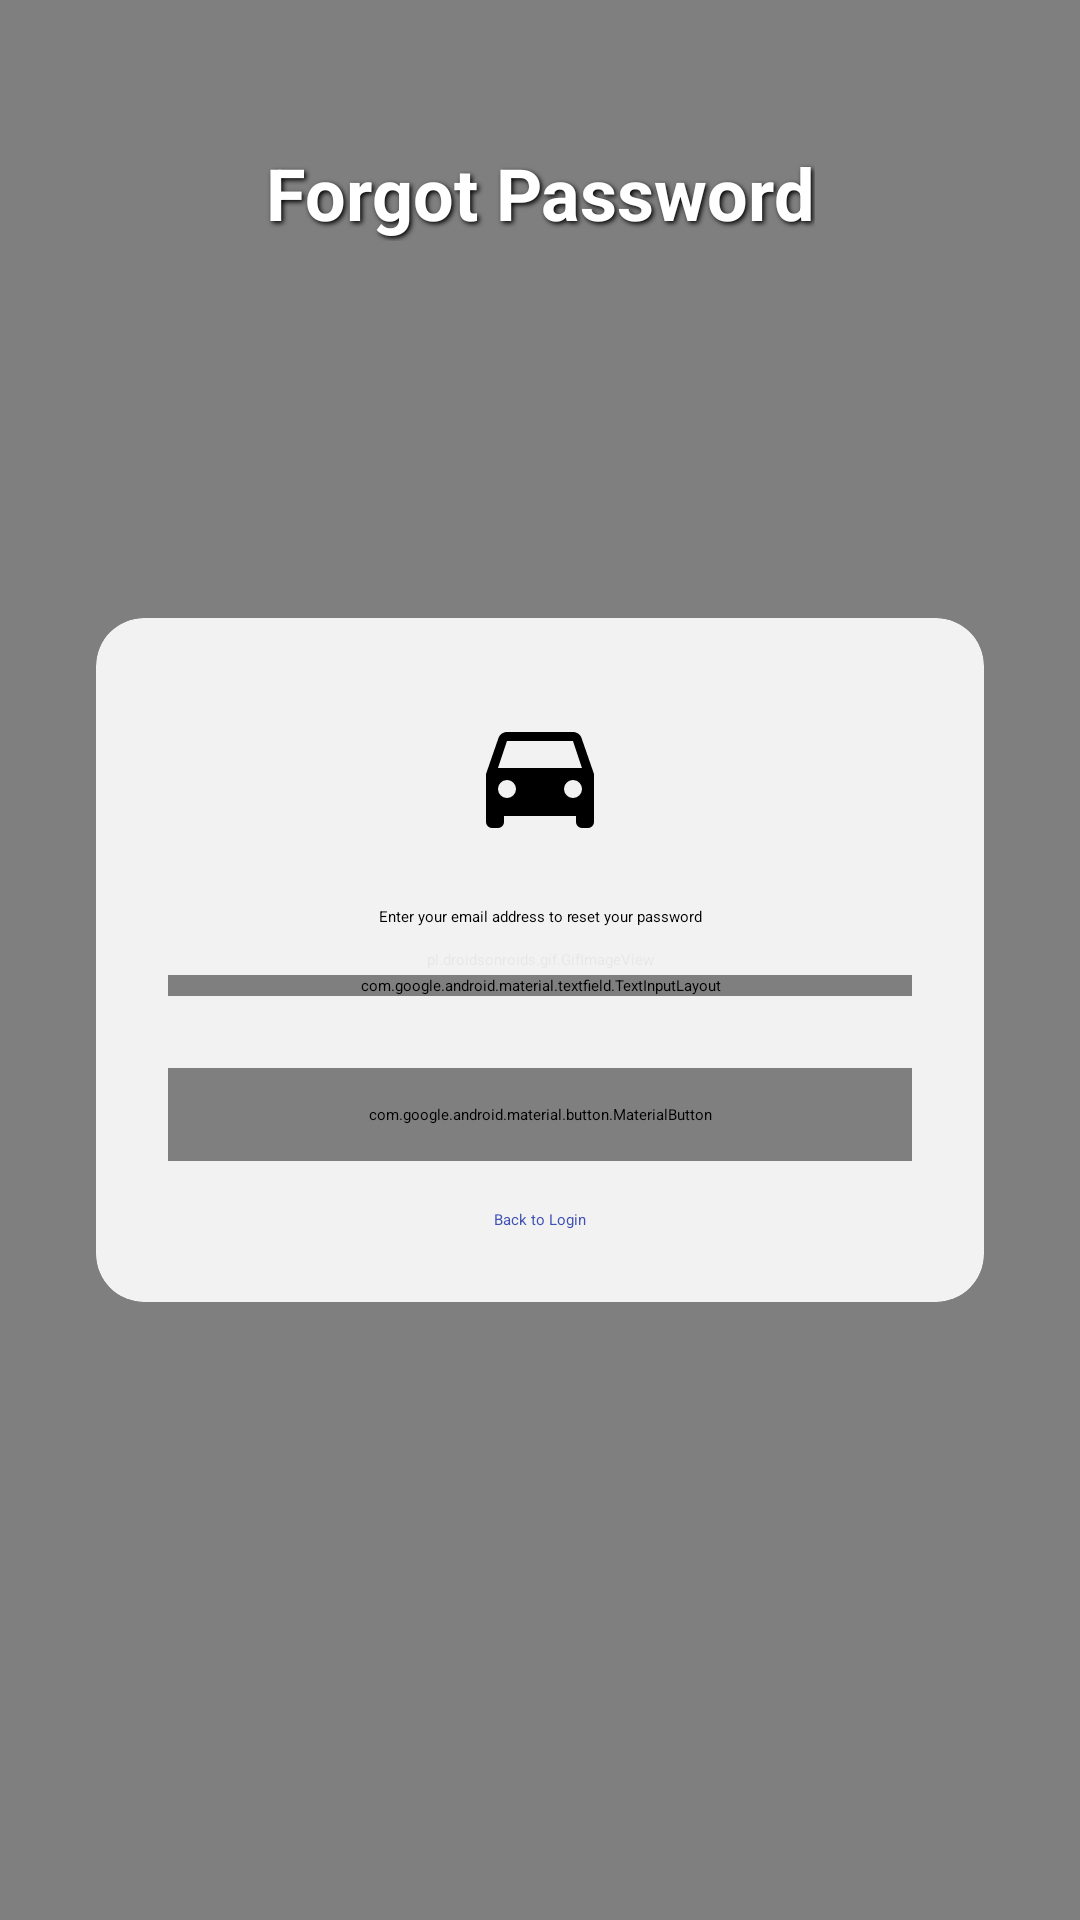

Icon click points for this 1080 × 1920 phone screenshot, format (x,y):
car simple: (540,780)
